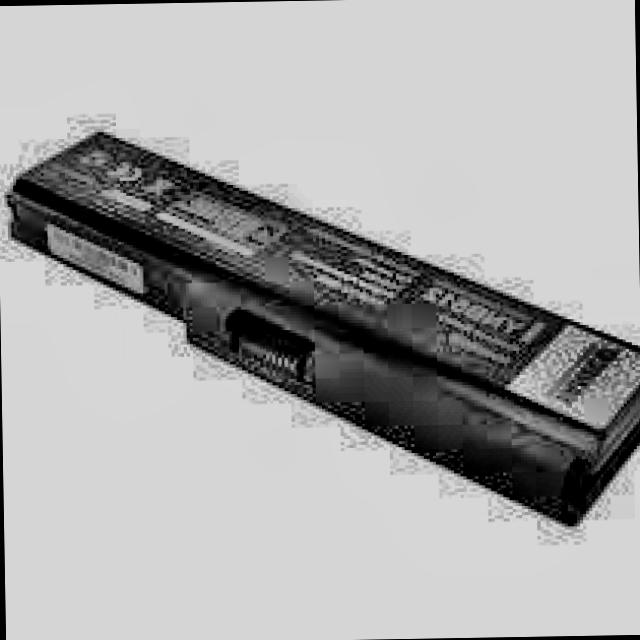Battery: (0, 113, 640, 554)
